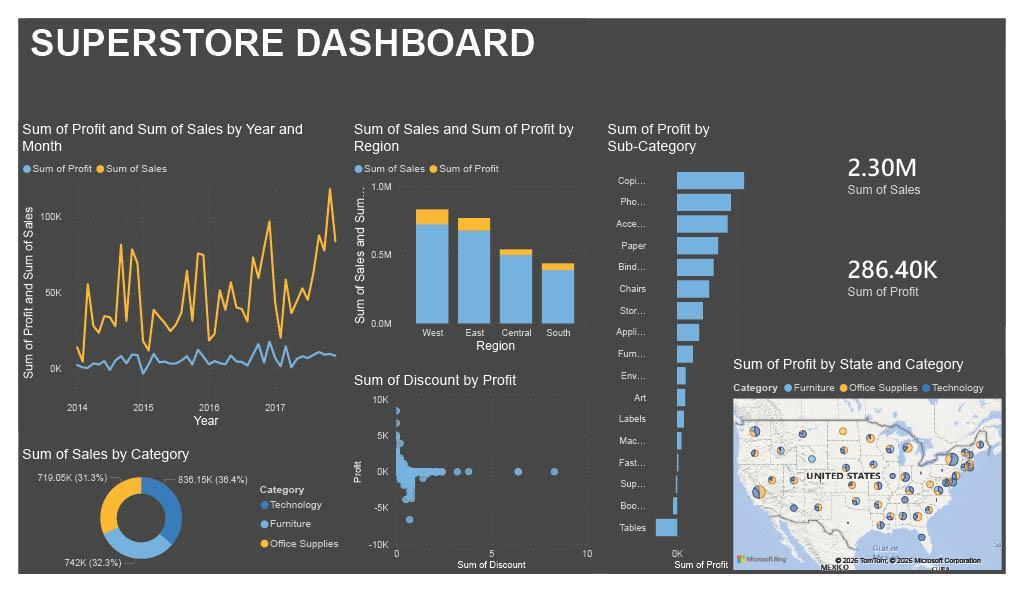

What the dashboard file says about the page in this screenshot:
{"tool":"tableau","page":{"name":"Dashboard 1","canvas":[650,860],"ordinal":0},"visuals":[{"type":"title","box":[8,11.4,634,59.9]},{"type":"worksheet","title":"Sheet 1","mark":"Pie","box":[8,71.3,264,292.6]},{"type":"worksheet","title":"Sheet 3","mark":"Automatic","rows":["Profit","Sales"],"cols":["Order Date"],"box":[272,71.3,204,483.3]},{"type":"legend","title":"Sheet 1","param":"[federated.102csem1s9dh7d1baqsrl1jtdrvj].[sum:Sales:qk]","box":[476,71.3,166,107]},{"type":"worksheet","title":"Sheet 6","mark":"Automatic","cols":["Region"],"box":[476,178.3,166,576.2]},{"type":"legend","title":"Sheet 1","param":"[federated.102csem1s9dh7d1baqsrl1jtdrvj].[none:Category:nk]","box":[8,363.9,264,124.5]},{"type":"worksheet","title":"Sheet 2","mark":"Automatic","rows":["Sub-Category"],"cols":["Profit"],"box":[8,488.4,264,360.2]},{"type":"worksheet","title":"Sheet 4","mark":"Automatic","rows":["Profit"],"cols":["Discount"],"box":[272,554.6,204,294]},{"type":"legend","title":"Sheet 6","param":"[federated.102csem1s9dh7d1baqsrl1jtdrvj].[:Measure Names]","box":[476,754.5,166,94.1]}]}

Visuals, with their boxes on the page's 650x860 design canvas (x1, y1, x2, y2). These are canvas units, not pixel positions in the 1024x592 screenshot, which may show the page scaled, cropped or inside an application window:
title: l=8, t=11, r=642, b=71
"Sheet 1" worksheet (Pie marks): l=8, t=71, r=272, b=364
"Sheet 3" worksheet: l=272, t=71, r=476, b=555
"Sheet 1" legend: l=476, t=71, r=642, b=178
"Sheet 6" worksheet: l=476, t=178, r=642, b=754
"Sheet 1" legend: l=8, t=364, r=272, b=488
"Sheet 2" worksheet: l=8, t=488, r=272, b=849
"Sheet 4" worksheet: l=272, t=555, r=476, b=849
"Sheet 6" legend: l=476, t=754, r=642, b=849
